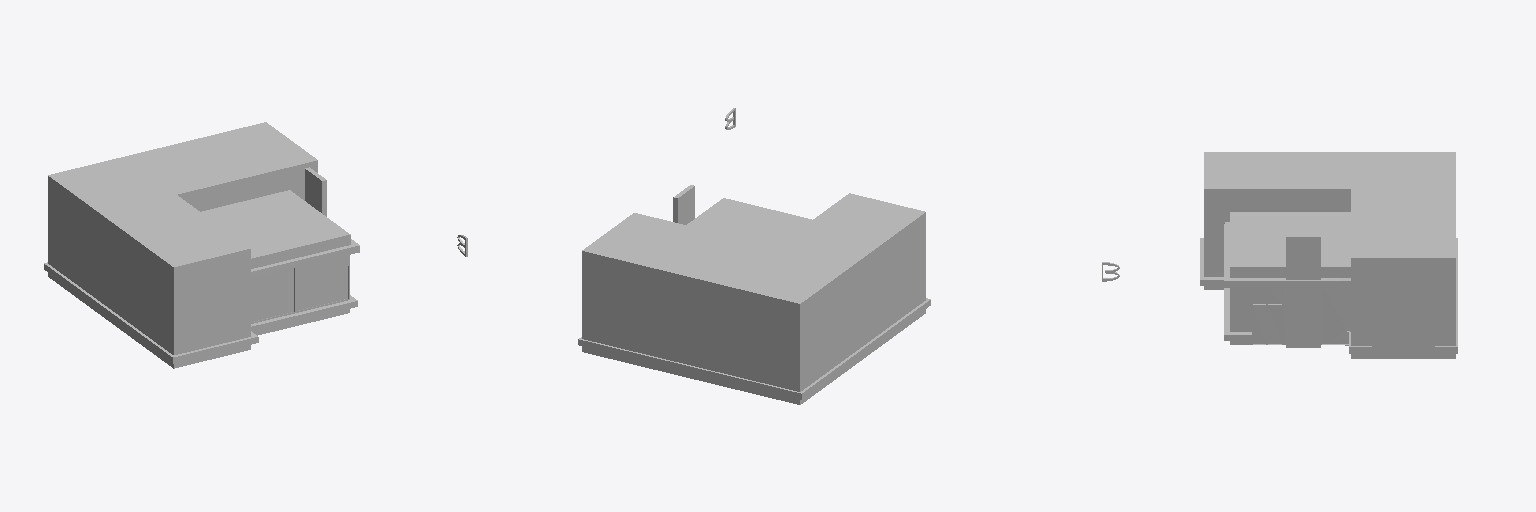
3 renders of one model, left to right at view 1: azimuth 30°, elevation 25°; view 2: azimuth 150°, elevation 25°; view 3: azimuth 270°, elevation 25°, orthographic.
Parts seen in each view (by area): view 1: Cube.001, red-build; view 2: Cube.001, red-build; view 3: Cube.001, red-build.
Boxes of the visible parts, <box> form: Cube.001: <box>44,122,359,368</box>; red-build: <box>305,167,326,216</box>; Cube.001: <box>578,193,930,404</box>; red-build: <box>674,185,694,224</box>; Cube.001: <box>1200,152,1457,358</box>; red-build: <box>1286,234,1320,347</box>.
Bounding box in the file's own units: 782 × 337 × 981.